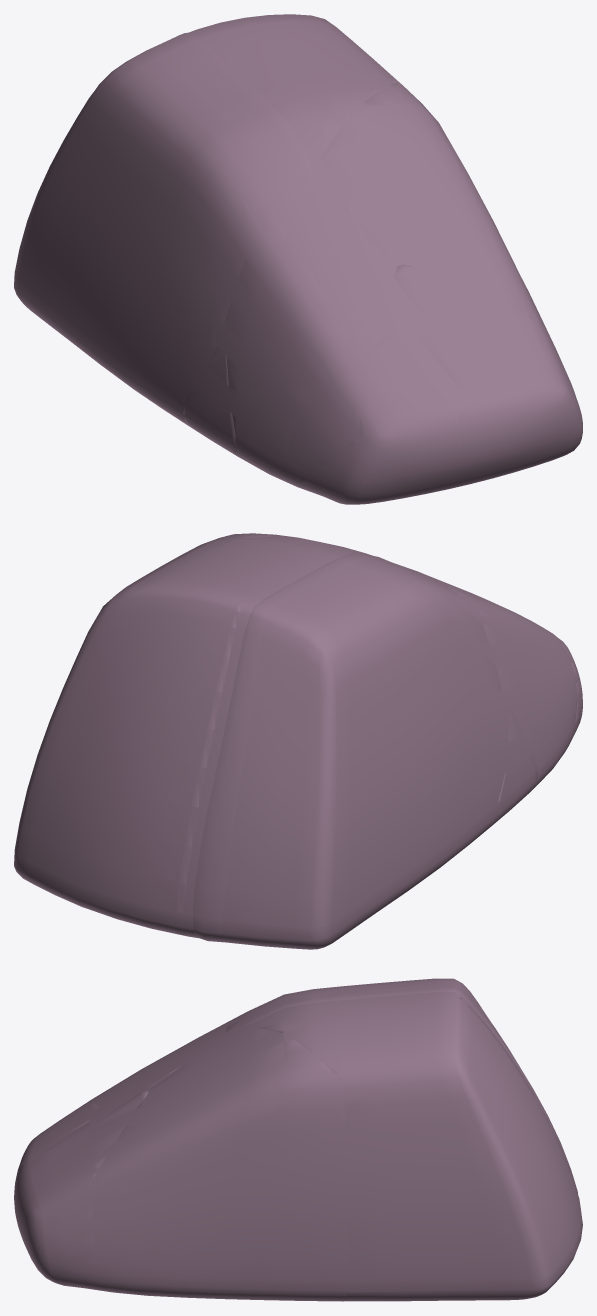
File: SM_20083Pedra.fbx
3 views of the same model, one above another, from view 1: azimuth 30°, elevation 25°; view 2: azimuth 150°, elevation 25°; view 3: azimuth 270°, elevation 25° (orthographic). The views are drawn at different scales.
Parts seen in each view (by area): view 1: SM_20083Pedra_geo_7, SM_20083Pedra_geo_1, SM_20083Pedra_geo_4, SM_20083Pedra_geo_8, SM_20083Pedra_geo_3, SM_20083Pedra_geo_6, SM_20083Pedra_geo_5, SM_20083Pedra_geo_2; view 2: SM_20083Pedra_geo_7, SM_20083Pedra_geo_5, SM_20083Pedra_geo_1, SM_20083Pedra_geo_8, SM_20083Pedra_geo_2; view 3: SM_20083Pedra_geo_7, SM_20083Pedra_geo_4, SM_20083Pedra_geo_5, SM_20083Pedra_geo_3, SM_20083Pedra_geo_1, SM_20083Pedra_geo_6.
Part boxes in pixels (x1,y1,x2,y2): SM_20083Pedra_geo_7: (14,14,582,504); SM_20083Pedra_geo_1: (14,32,313,424); SM_20083Pedra_geo_4: (320,82,542,325); SM_20083Pedra_geo_8: (224,209,392,485); SM_20083Pedra_geo_3: (394,264,582,488); SM_20083Pedra_geo_6: (297,331,464,504); SM_20083Pedra_geo_5: (208,14,398,151); SM_20083Pedra_geo_2: (182,347,237,456); SM_20083Pedra_geo_7: (14,534,582,949); SM_20083Pedra_geo_5: (14,537,353,935); SM_20083Pedra_geo_1: (192,552,502,949); SM_20083Pedra_geo_8: (444,585,576,785); SM_20083Pedra_geo_2: (496,713,537,821); SM_20083Pedra_geo_7: (14,978,582,1301); SM_20083Pedra_geo_4: (92,1029,349,1301); SM_20083Pedra_geo_5: (256,996,582,1301); SM_20083Pedra_geo_3: (14,1090,148,1287); SM_20083Pedra_geo_1: (221,978,577,1193); SM_20083Pedra_geo_6: (18,1103,100,1170).
Size of the model in its own units: 19.85 by 16.75 by 36.08.
